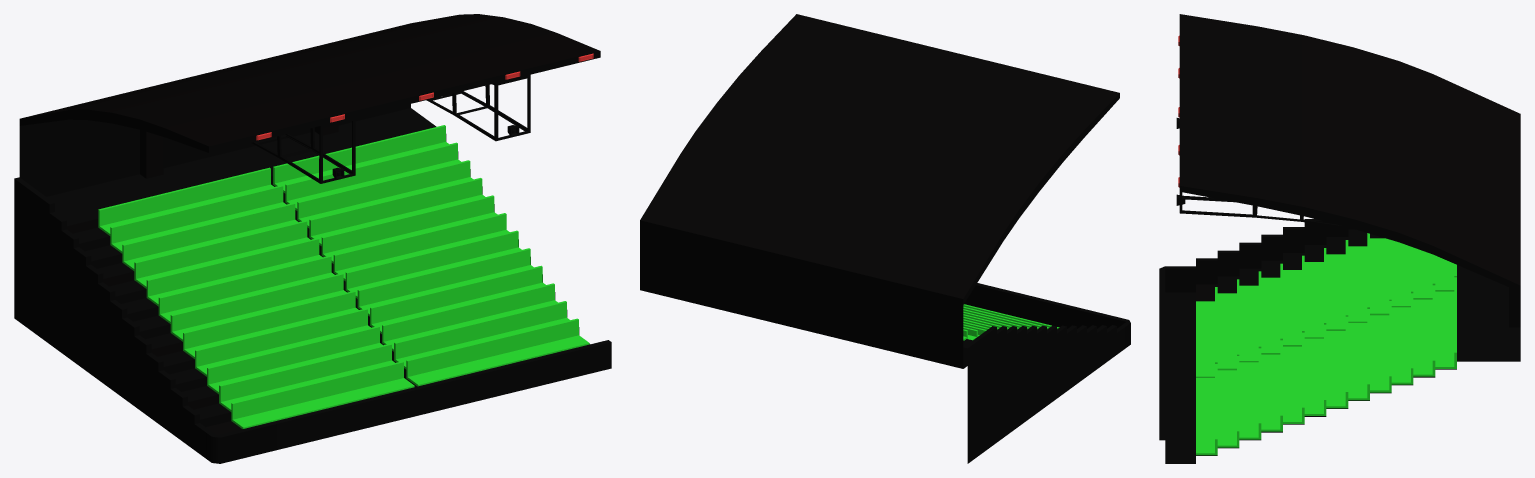
The model's file is Audience_Stand_End_Mesh.fbx.
3 renders of one model, left to right at view 1: azimuth 30°, elevation 25°; view 2: azimuth 150°, elevation 25°; view 3: azimuth 270°, elevation 25°, orthographic. The views are drawn at different scales.
Visible parts, largest first — view 1: Audience_Stand_End; view 2: Audience_Stand_End; view 3: Audience_Stand_End.
Part boxes in pixels (box(x1,y1,x2,y2)): Audience_Stand_End: box(14, 14, 611, 463); Audience_Stand_End: box(640, 14, 1130, 463); Audience_Stand_End: box(1159, 14, 1520, 463).
Bounding box in the file's own units: 1254 × 1431 × 1066.
